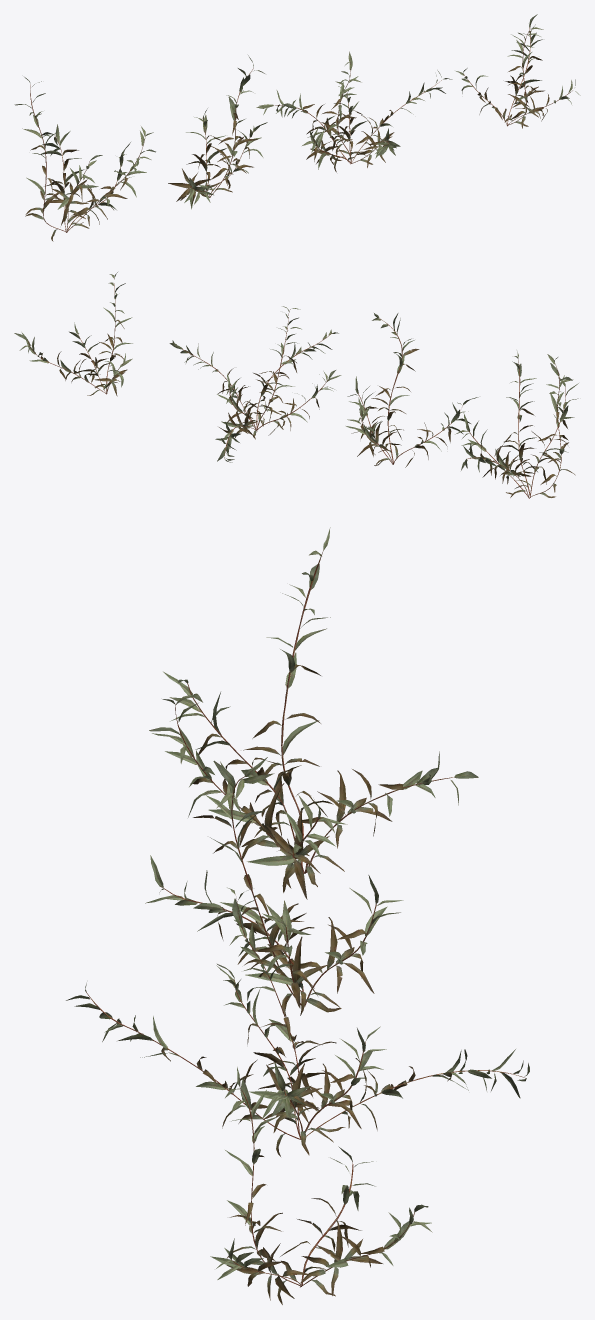
File: shrub_02.glb
3 views of the same model, one above another, from view 1: azimuth 30°, elevation 25°; view 2: azimuth 150°, elevation 25°; view 3: azimuth 270°, elevation 25° (orthographic). The views are drawn at different scales.
Visible parts, largest first — view 1: shrub_02_c, shrub_02_a, shrub_02_b, shrub_02_d; view 2: shrub_02_c, shrub_02_a, shrub_02_b, shrub_02_d; view 3: shrub_02_a, shrub_02_c, shrub_02_b, shrub_02_d.
Part boxes in pixels (<box>): shrub_02_c: <box>256,51,452,172</box>; shrub_02_a: <box>14,77,155,241</box>; shrub_02_b: <box>168,55,267,209</box>; shrub_02_d: <box>456,14,580,128</box>; shrub_02_c: <box>169,306,341,462</box>; shrub_02_a: <box>455,351,578,498</box>; shrub_02_b: <box>346,313,478,467</box>; shrub_02_d: <box>14,272,132,396</box>; shrub_02_a: <box>149,527,478,899</box>; shrub_02_c: <box>66,887,529,1156</box>; shrub_02_b: <box>145,757,403,1017</box>; shrub_02_d: <box>210,1067,432,1304</box>.
Bounding box in the file's own units: 6.03 × 1.7 × 2.29.
1 material, 1 textured.
